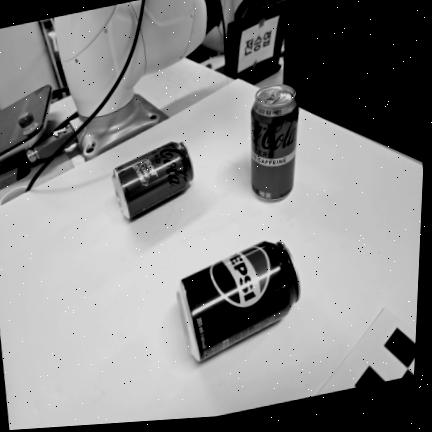can_coke_decaf: (247, 83, 298, 203)
can_coke_zero: (110, 141, 194, 219)
can_pepsi: (175, 241, 303, 362)
